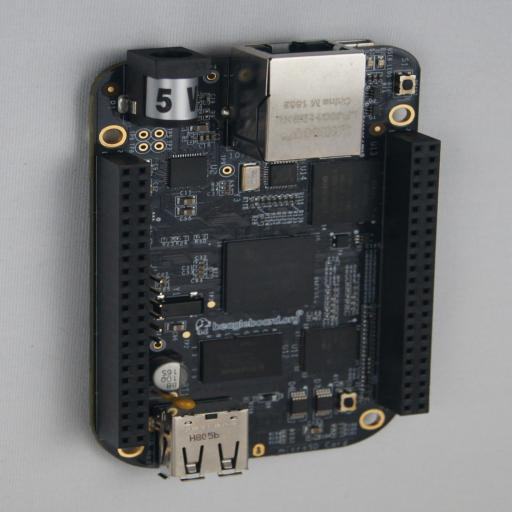Beaglebone Black: (76, 39, 440, 481)
